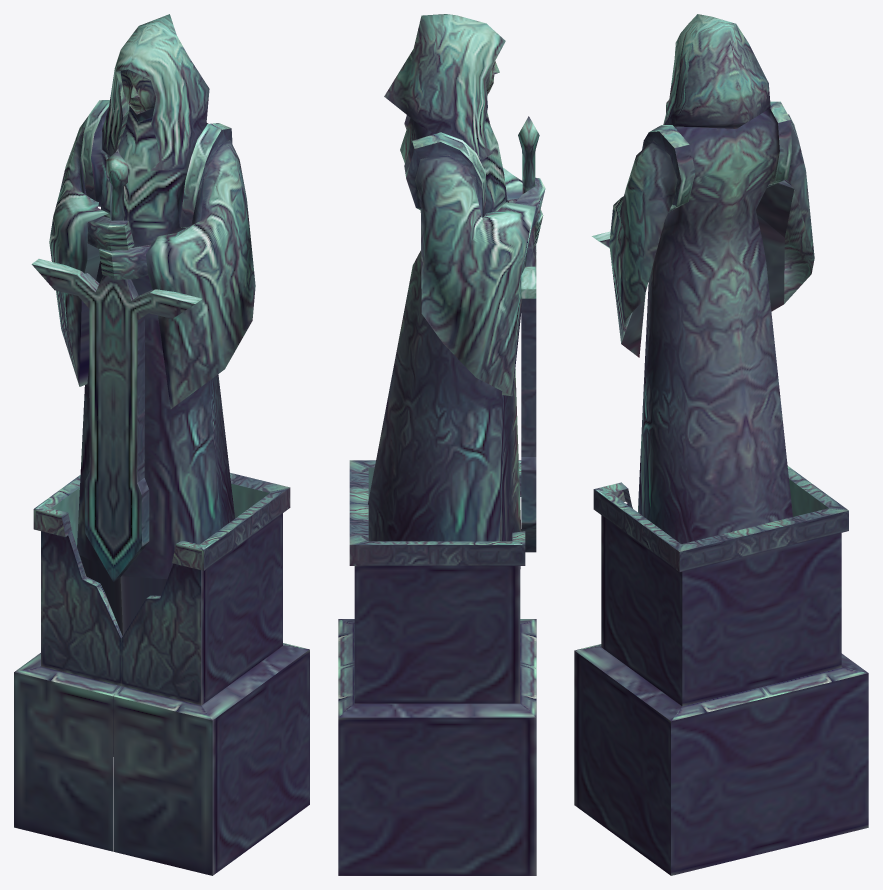
File: Maincity_Sculpture.FBX
The picture shows the model from 3 angles, left to right: view 1: azimuth 30°, elevation 25°; view 2: azimuth 150°, elevation 25°; view 3: azimuth 270°, elevation 25°; orthographic projection. The views are drawn at different scales.
Visible parts, largest first — view 1: Maincity_Statue002; view 2: Maincity_Statue002; view 3: Maincity_Statue002.
Part boxes in pixels (box(x1,y1,x2,y2)): Maincity_Statue002: box(14, 14, 309, 875); Maincity_Statue002: box(338, 14, 545, 875); Maincity_Statue002: box(574, 14, 868, 875).
Size of the model in its own units: 3516 by 10919 by 3674.
